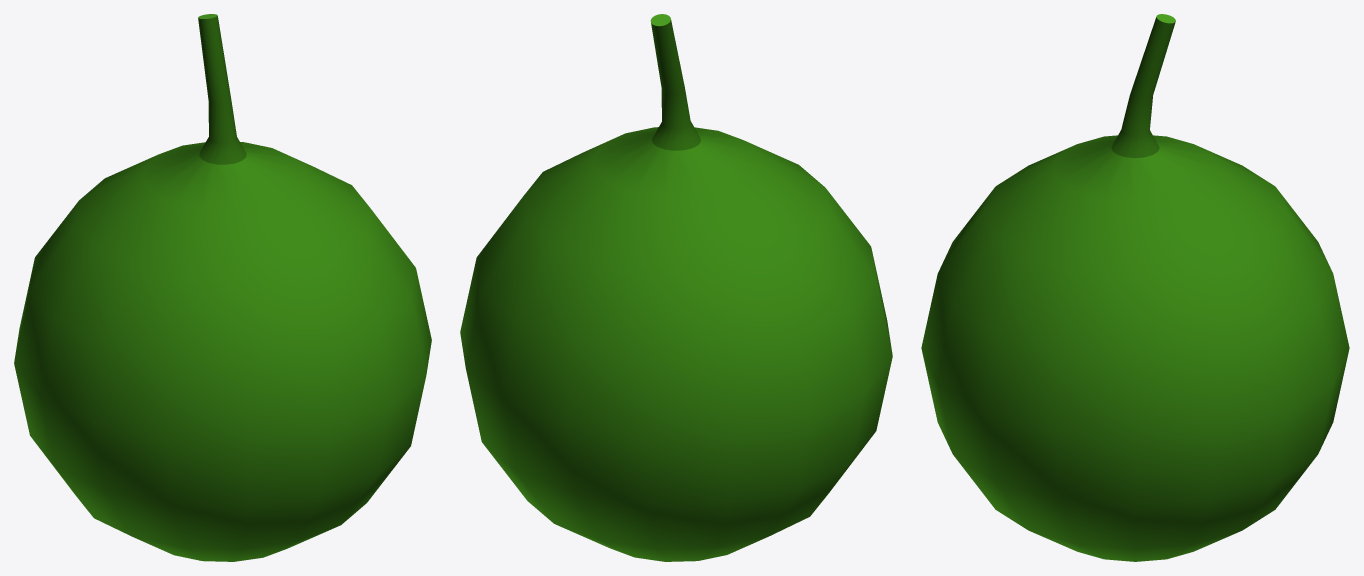
The model's file is Berry Model.fbx.
3 renders of one model, left to right at view 1: azimuth 30°, elevation 25°; view 2: azimuth 150°, elevation 25°; view 3: azimuth 270°, elevation 25°, orthographic. The views are drawn at different scales.
Parts seen in each view (by area): view 1: Sphere; view 2: Sphere; view 3: Sphere.
Boxes of the visible parts, x1,y1,x2,y2 form: Sphere: (14, 14, 431, 561); Sphere: (460, 14, 892, 561); Sphere: (921, 14, 1349, 561).
Bounding box in the file's own units: 200 × 271 × 200.
